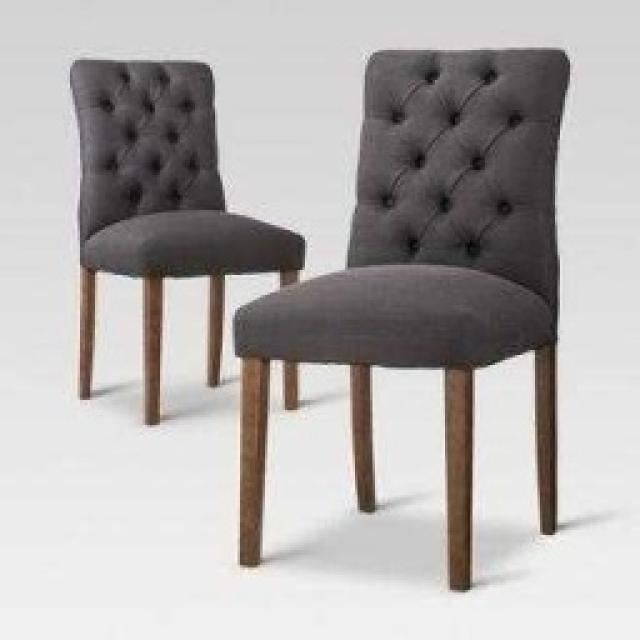sandalye: (232, 45, 570, 590), (67, 55, 305, 425)
